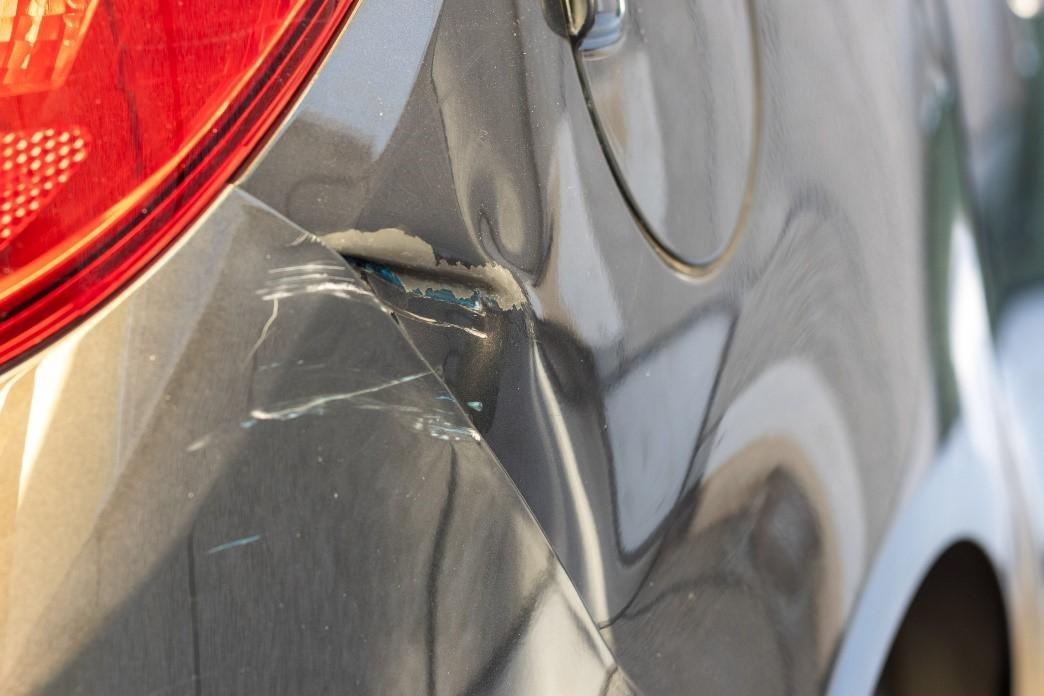dent: (312, 144, 640, 574)
scratch: (208, 206, 570, 458)
